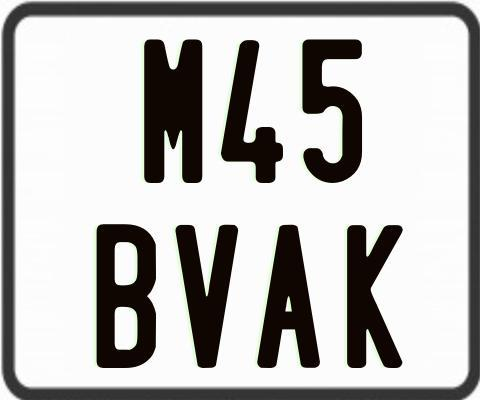4: (221, 39, 285, 182)
5: (299, 37, 359, 183)
A: (256, 225, 321, 373)
B: (94, 224, 158, 374)
K: (346, 224, 407, 372)
M: (141, 37, 202, 186)
V: (172, 223, 240, 367)
